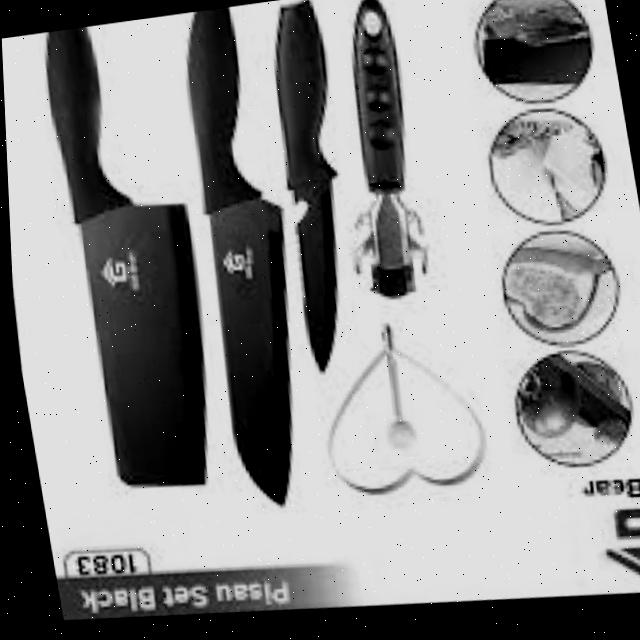knife: (33, 16, 227, 499), (159, 3, 326, 516), (251, 0, 373, 374)
